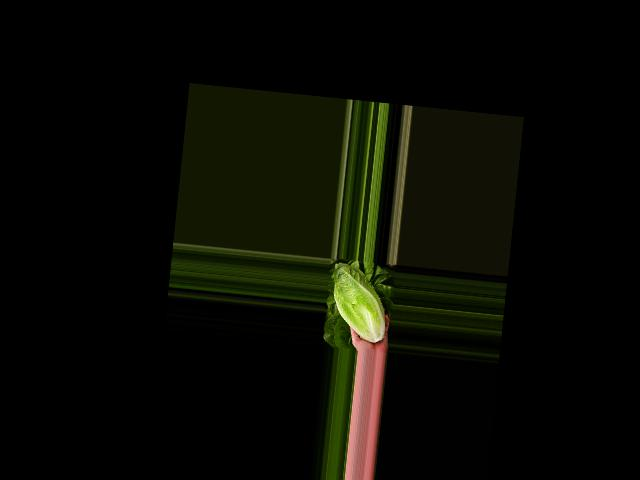lettuce: (326, 261, 393, 345)
